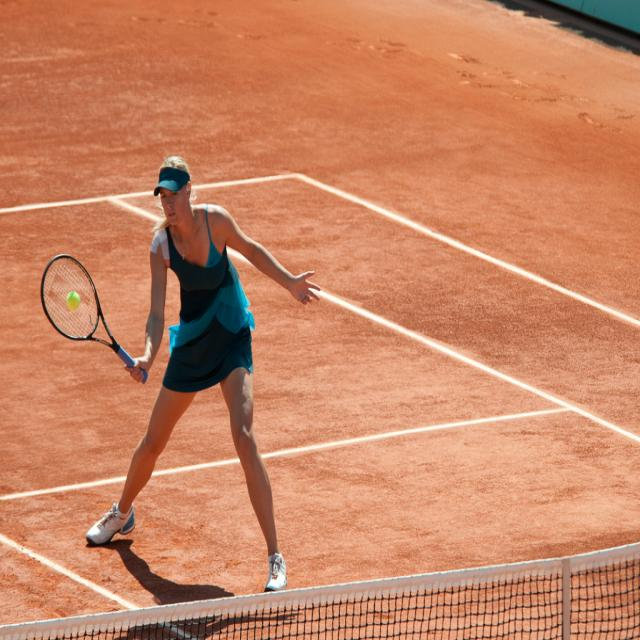Tennis ball: (67, 291, 79, 311)
